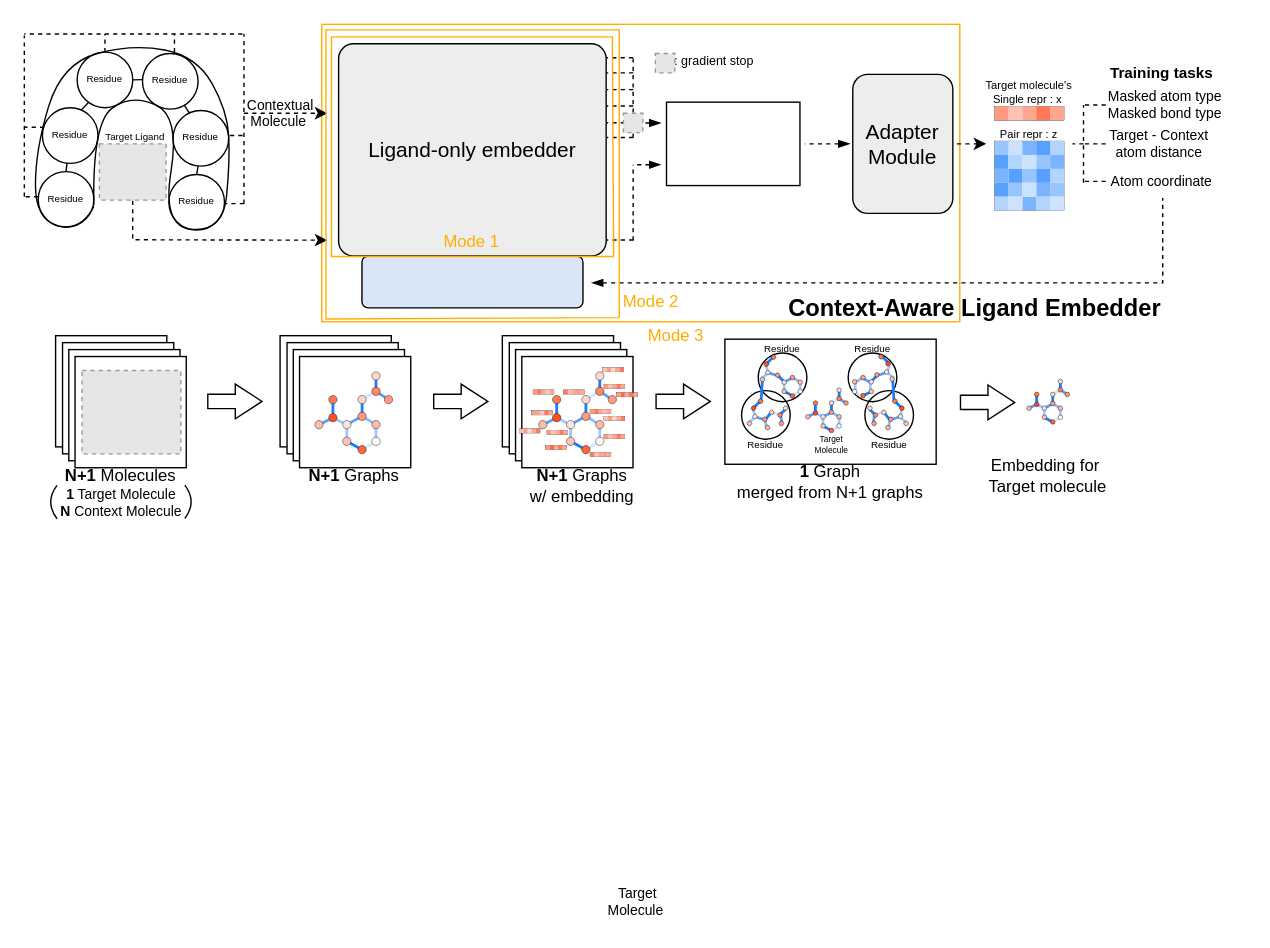
The diagram is 1270 pixels wide and 948 high, and some of its shapes have lost their labels. Grey dashed boxes stand in for pictures. Each missing label, with the centre of its shape:
"LoRA Layers" belongs at [472,281].
"Reconstruct as a single 3D graph" belongs at [732,143].
